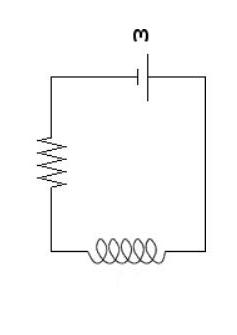resistor: (25, 114, 79, 206)
